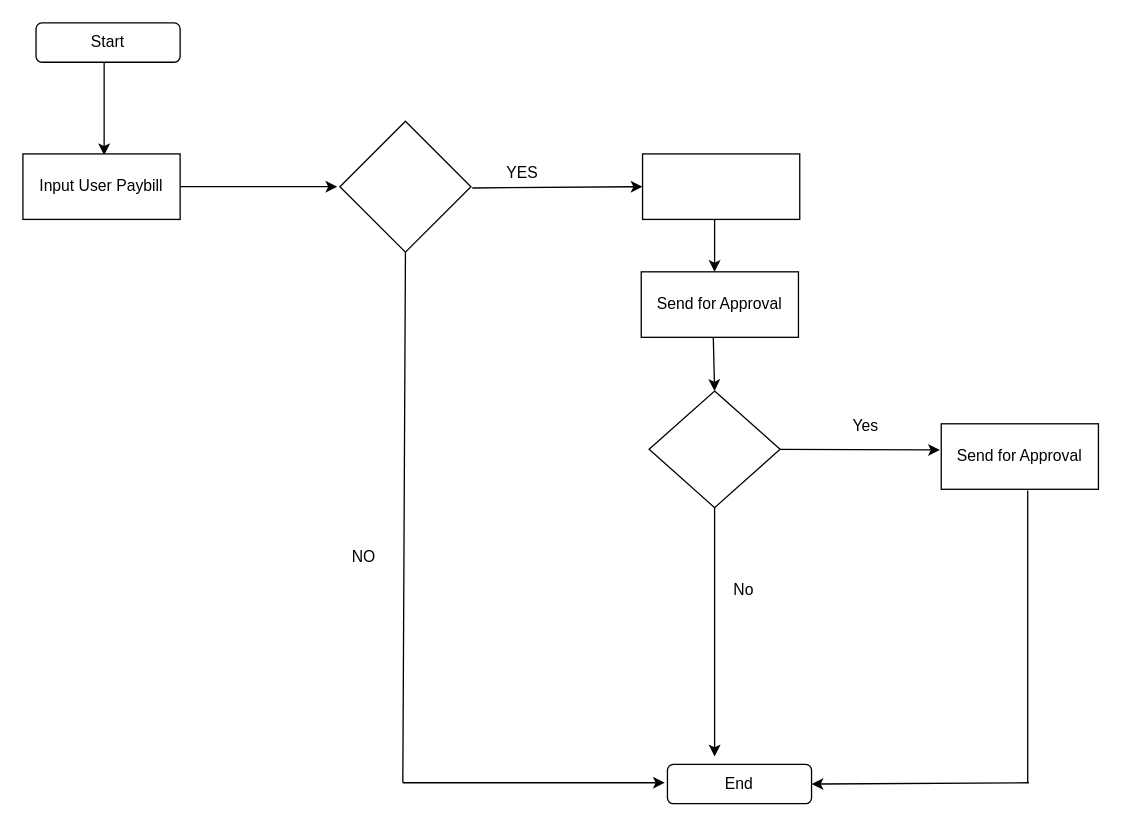
The diagram is 1121 pixels wide and 827 high, and some of its shapes have lost their labels. Each missing label, with the centre of its shape:
Approved: (714,449)
Is Paybill Valid Length: (405,186)
Select Associating Savings Account: (720,186)
